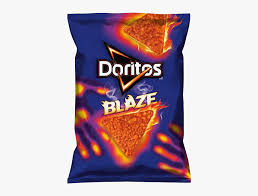Doritos: (59, 7, 213, 196)
